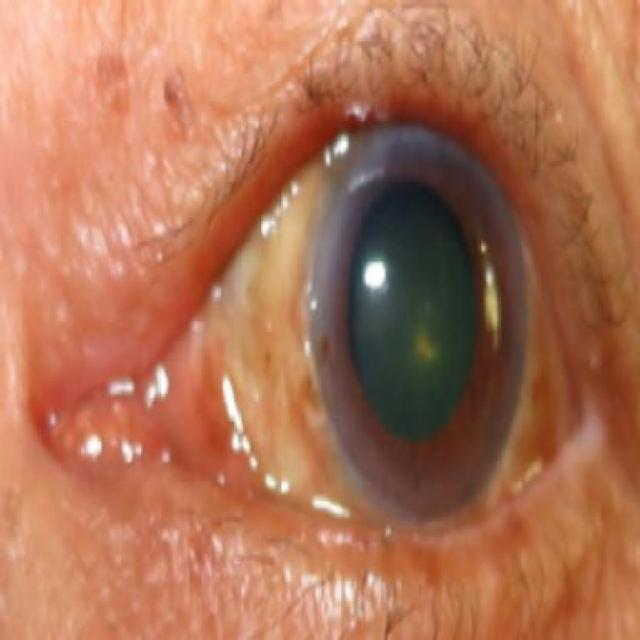Cataract: (304, 115, 531, 539)
